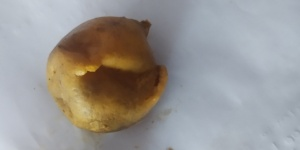BAD: (47, 15, 166, 134)
